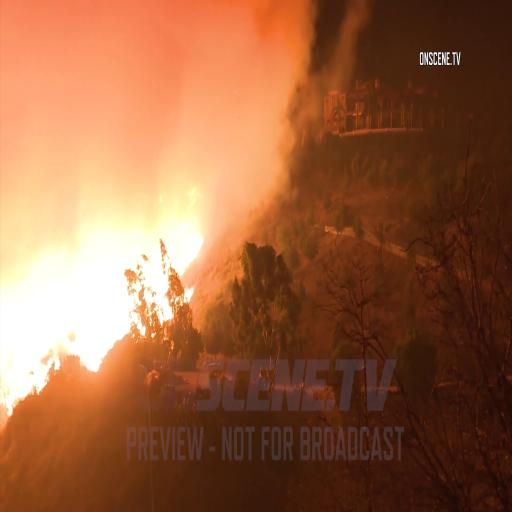fire: (6, 222, 184, 320)
smoke: (0, 0, 218, 191)
